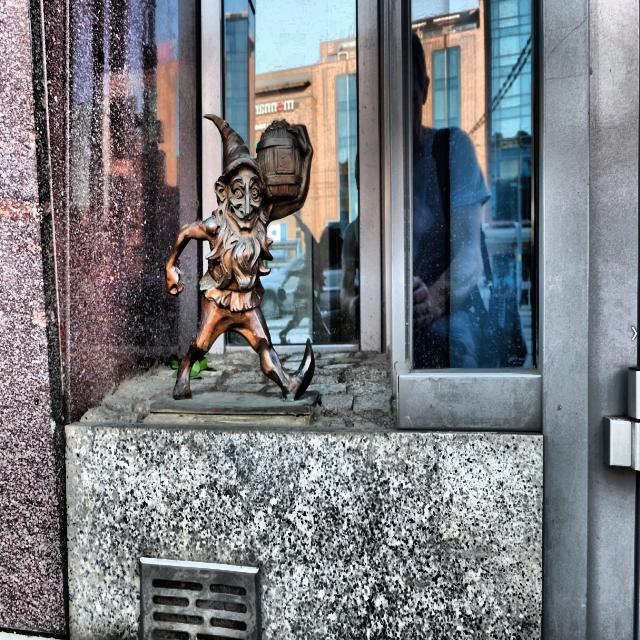Leprykonus: (146, 94, 332, 416)
